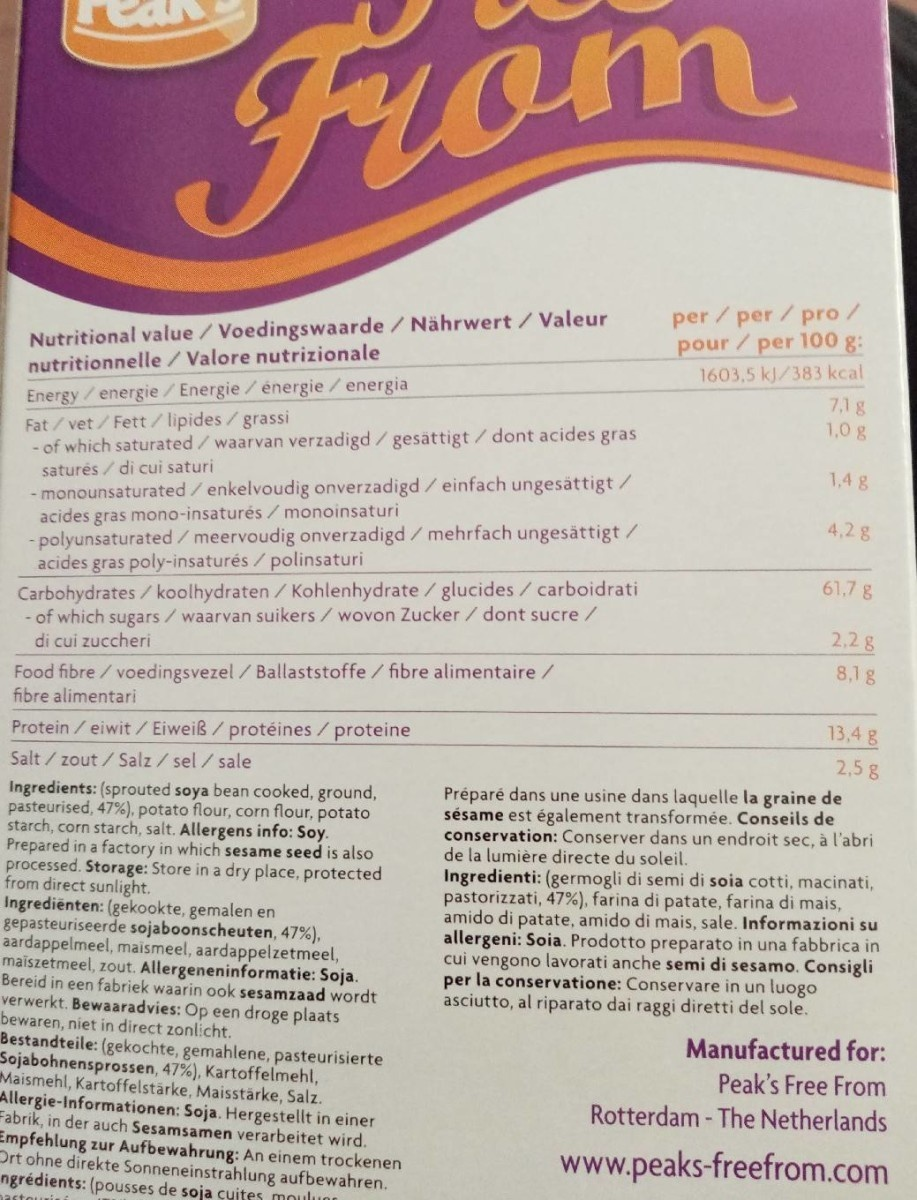column: (24, 309, 655, 778), (666, 303, 884, 782)
table: (6, 298, 897, 789)
